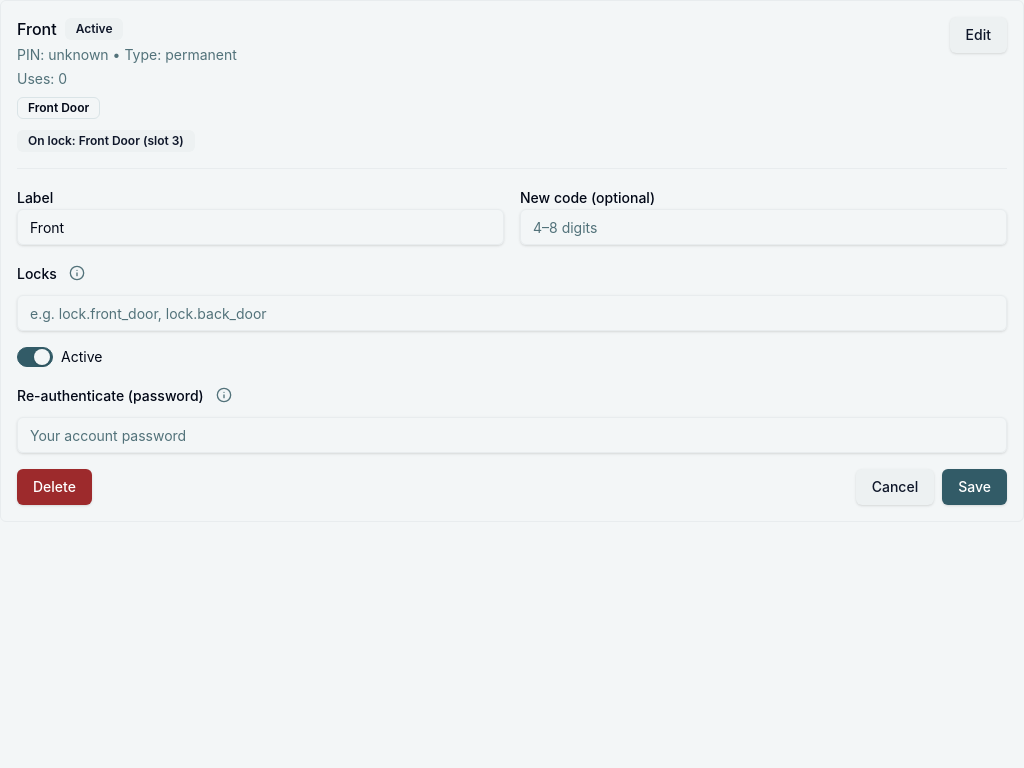
DoorCodeCard › shows a refused delete turning the code off and keeps its error
Expected: the text "On lock: Front Door (slot 3)" is shown, [17,130,195,152]
Expected: the text "Inactive" is not shown
Type "pw" into the password field labelled "Re-authenticate (password)" at (512, 435), box [17,417,1007,453]
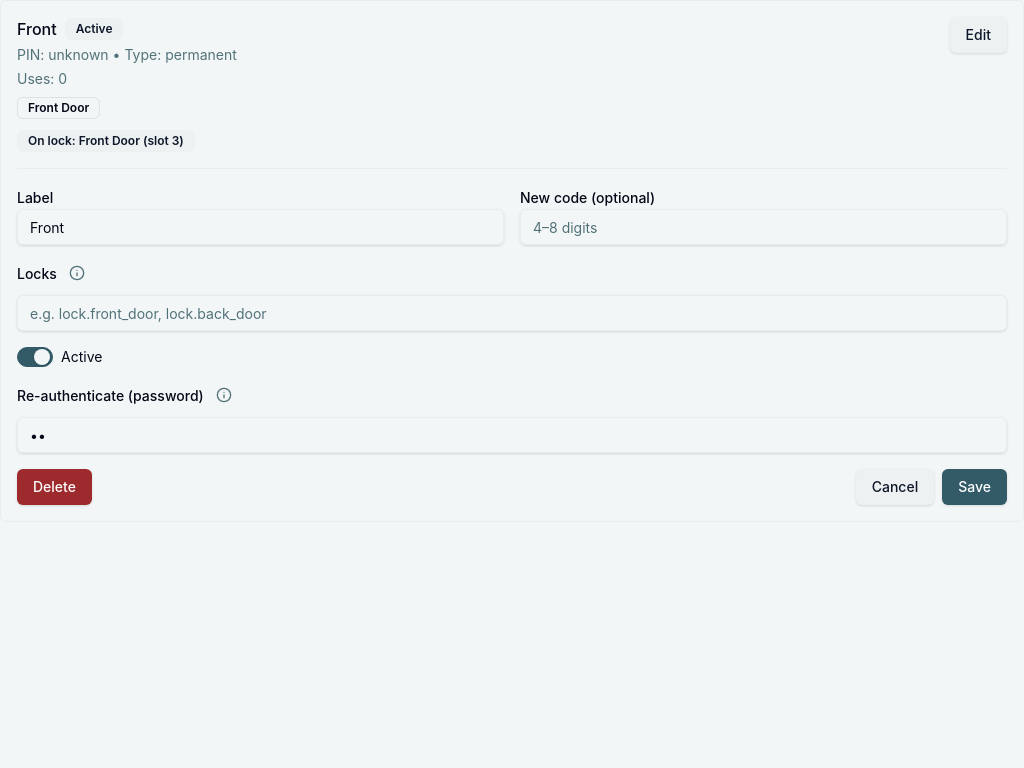
Click the button "Delete" at (54, 487), box [17,469,92,505]
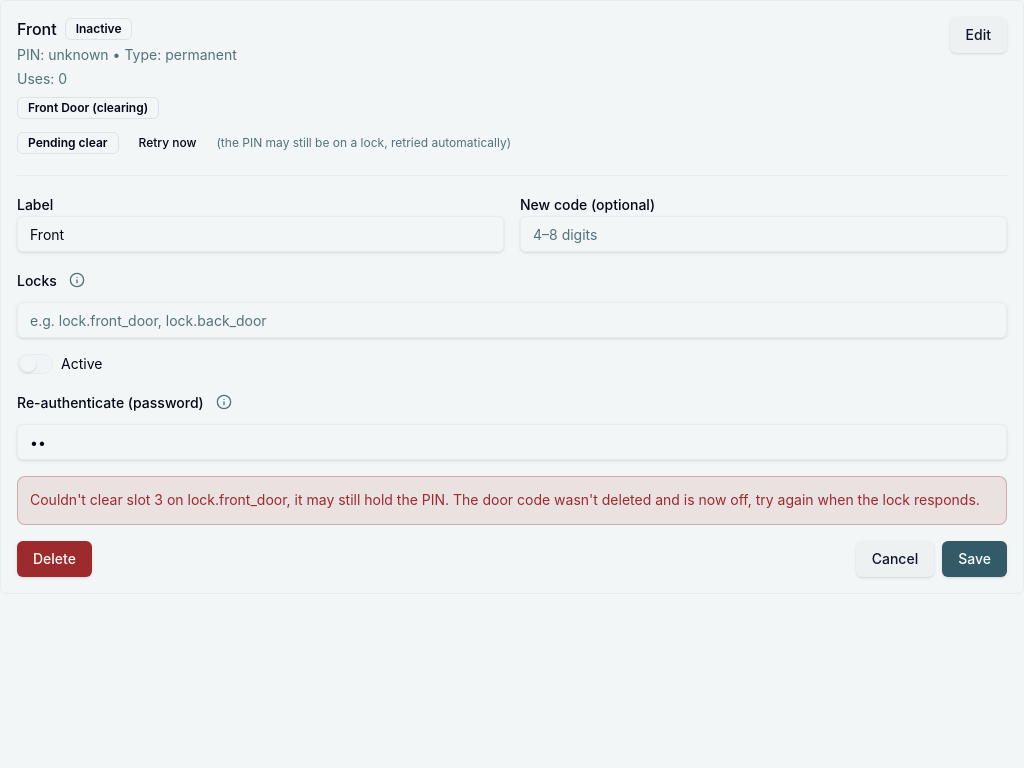
Now the text "Pending clear" is shown, box [17,132,119,154]
Now the text "Couldn't clear slot 3 on lock.front_door, it may still hold the PIN. The door code wasn't deleted and is now off, try ag" is shown, box [30,491,980,508]
Now the text "Inactive" is shown, box [65,18,132,40]
